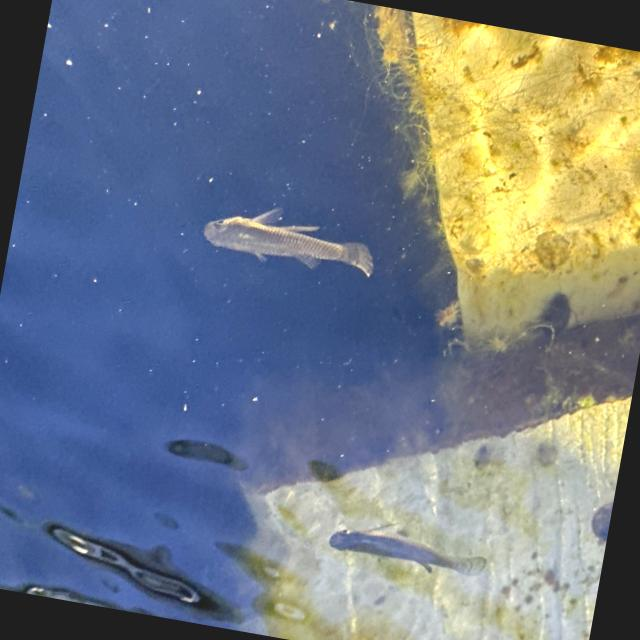Sivrisinek Baligi: (325, 496, 502, 600), (197, 194, 381, 284)
